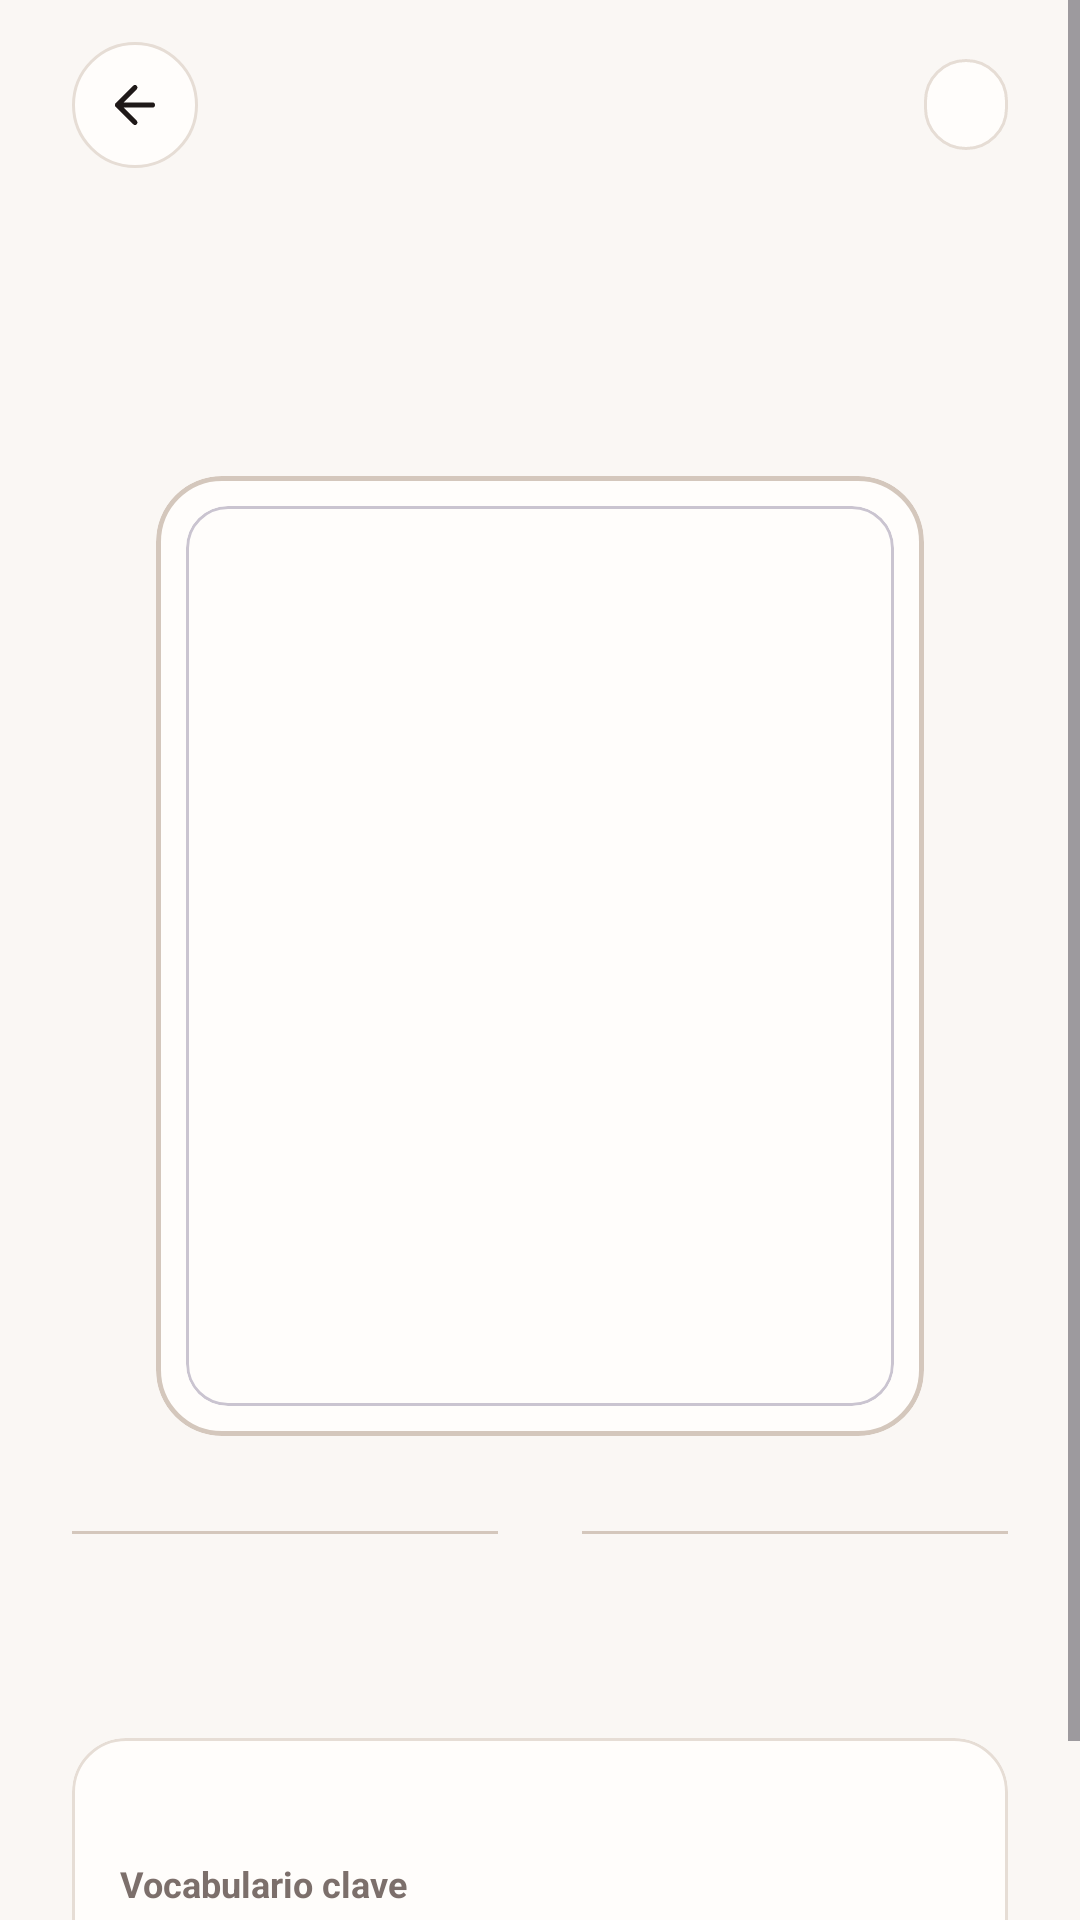

Icons on this 1080×1920 Android screen, each with the point to tap as [x,y]:
atras: [135,105]
